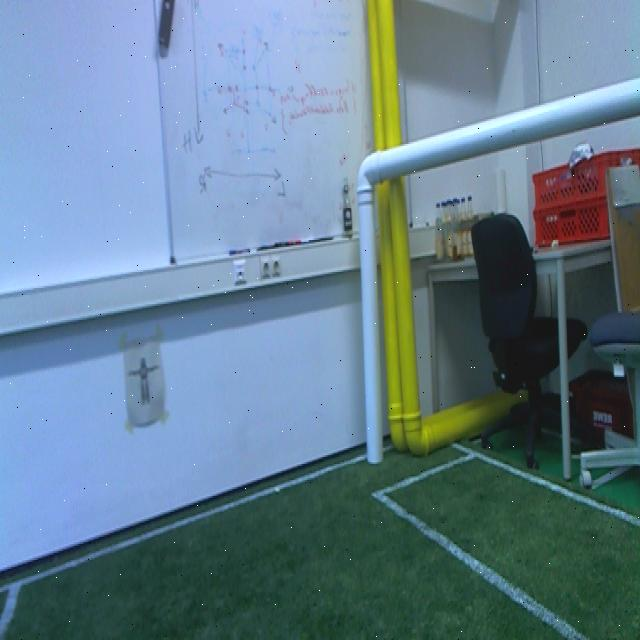goalpost: (355, 165, 384, 455)
